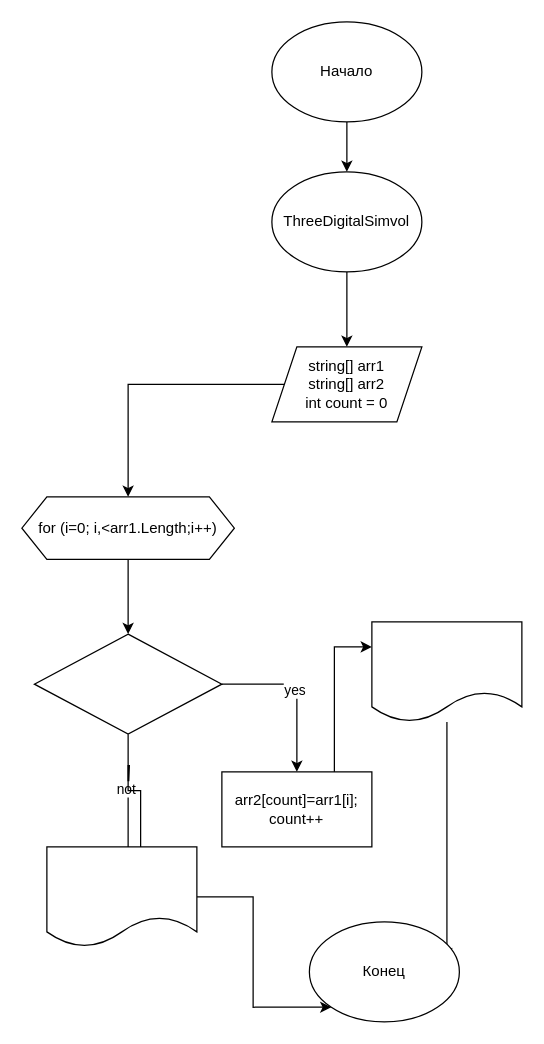
Some shapes in this 544 by 1044 pixel diagram are drawn without their labels. The box of each missing label's shape, as (x1, y1, x2, y2) in pixels:
if(arr1[i].Length <=3): (33, 633, 222, 734)
Print [ ]: (46, 846, 197, 947)
PrintArray (arr2): (371, 621, 522, 722)
